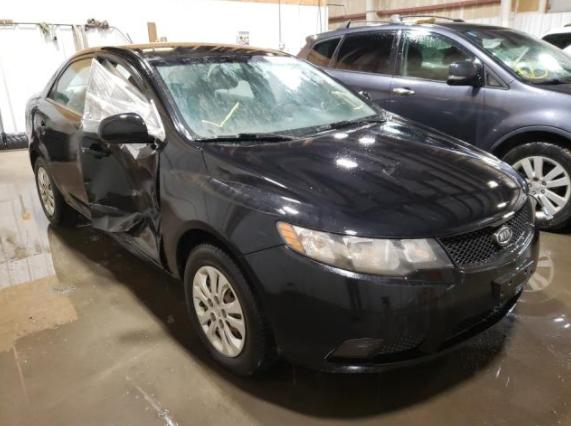Back-door: (36, 53, 95, 216)
Back-wheel: (34, 155, 80, 226)
Back-window: (55, 59, 92, 112)
Fender: (158, 129, 283, 275)
Front-bumper: (235, 222, 540, 374)
Front-door: (82, 52, 166, 266)
Front-wheel: (182, 242, 272, 377)
Grille: (440, 202, 531, 270)
Headlight: (276, 220, 459, 284), (529, 194, 535, 227)
Hood: (191, 110, 528, 238)
Mirror: (98, 112, 154, 143), (357, 91, 373, 104)
Quarter-panel: (25, 92, 42, 168)
Rocker-panel: (104, 232, 180, 281), (65, 197, 88, 220)
Roof: (70, 42, 292, 61)
Windshield: (145, 54, 382, 141)
